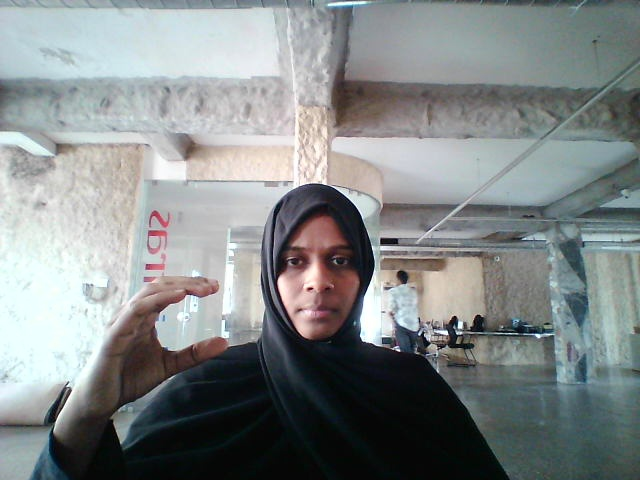NO: (66, 264, 266, 422)
